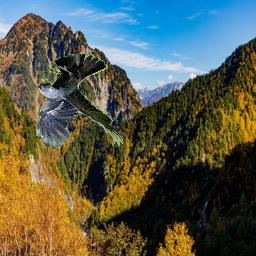Crow: (36, 54, 124, 148)
